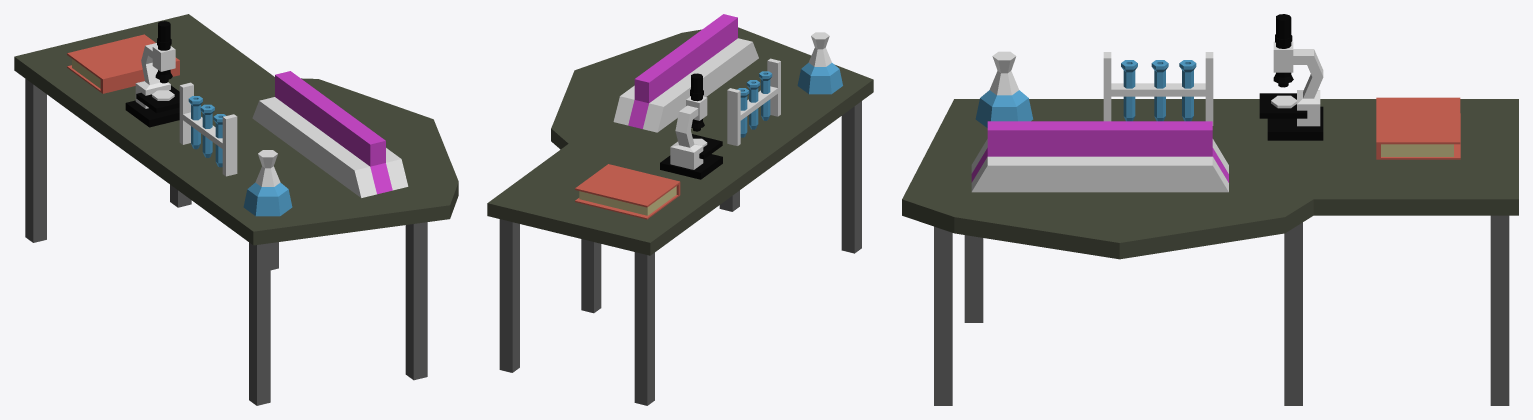
The model's file is ResearchBench.fbx.
The picture shows the model from 3 angles, left to right: view 1: azimuth 30°, elevation 25°; view 2: azimuth 150°, elevation 25°; view 3: azimuth 270°, elevation 25°; orthographic projection. The views are drawn at different scales.
Visible parts, largest first — view 1: ResearchBench; view 2: ResearchBench; view 3: ResearchBench.
Part boxes in pixels (box(x1,y1,x2,y2)): ResearchBench: box(14, 14, 458, 405); ResearchBench: box(487, 14, 873, 405); ResearchBench: box(902, 14, 1518, 405).
Bounding box in the file's own units: 303 × 316 × 548.
